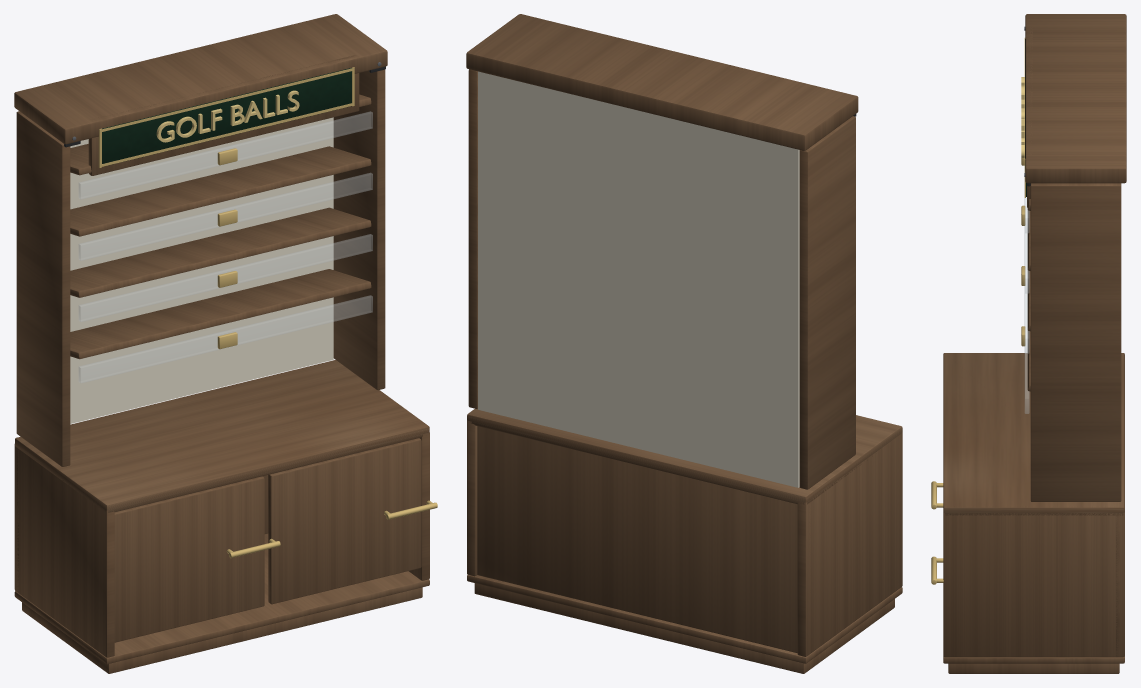
Rendered from golf_balls_display.glb.
3 renders of one model, left to right at view 1: azimuth 30°, elevation 25°; view 2: azimuth 150°, elevation 25°; view 3: azimuth 270°, elevation 25°, orthographic. The views are drawn at different scales.
Visible parts, largest first — view 1: golf_balls_display_body; view 2: golf_balls_display_body; view 3: golf_balls_display_body.
Part boxes in pixels (bbox=[...]): golf_balls_display_body: bbox=[14, 14, 437, 673]; golf_balls_display_body: bbox=[466, 14, 902, 673]; golf_balls_display_body: bbox=[931, 14, 1126, 673].
Size of what is drawn, in the model's own units: 1.05 by 1.61 by 0.559.
8 materials, 2 textured.
